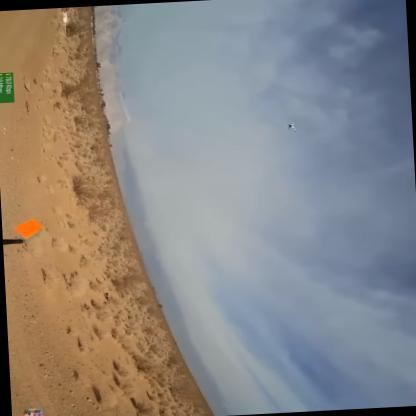drone: (282, 119, 298, 133)
